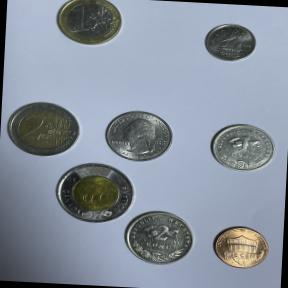1 Euro: (53, 0, 126, 48)
2 Euro: (4, 100, 84, 160)
Canda-10cent-: (202, 20, 262, 66)
Canda-2Dollar-: (52, 161, 136, 224)
Croatia-2Kune-: (124, 210, 198, 268)
US-1cent-: (211, 222, 273, 272)
US-25cent-: (100, 106, 179, 165)
